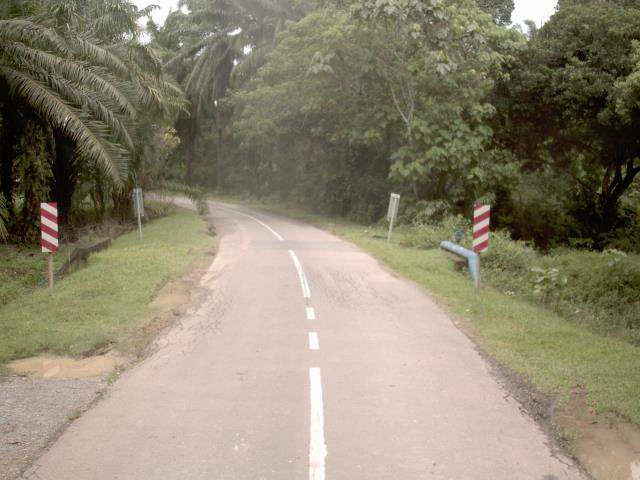traffic_sign: (32, 196, 67, 261), (468, 199, 493, 260)
